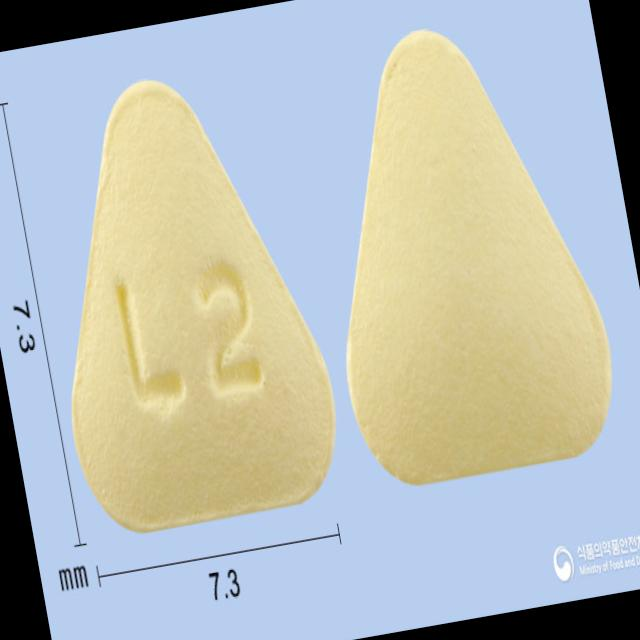Luarva: (11, 56, 352, 546)
